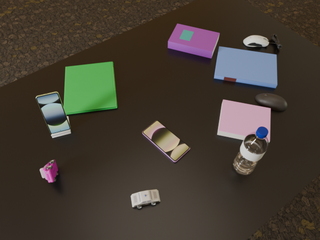book: (63, 62, 117, 114), (214, 47, 277, 88), (218, 100, 271, 143), (168, 24, 219, 58)
bottle: (233, 127, 269, 175)
mouse: (255, 93, 287, 111), (243, 35, 269, 47)
phone: (143, 121, 190, 162), (36, 92, 70, 134)
toy_car: (131, 189, 160, 208), (40, 160, 58, 182)
